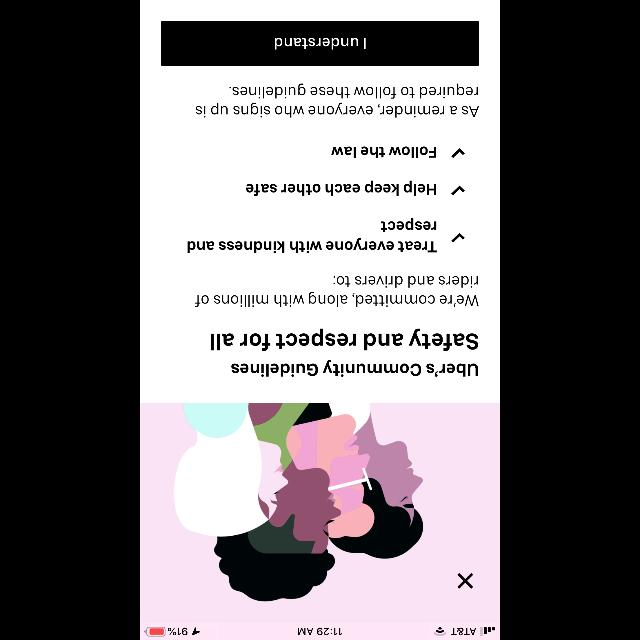icon: (457, 573, 473, 589), (452, 148, 464, 158), (452, 234, 464, 242), (452, 186, 464, 194)
image: (140, 403, 500, 639)
text: (212, 329, 478, 377), (196, 84, 478, 118), (196, 276, 478, 308), (188, 218, 436, 254), (246, 180, 436, 196), (332, 146, 436, 158)
textbutton: (161, 20, 479, 66)
uppertaskbar: (140, 626, 500, 640)
